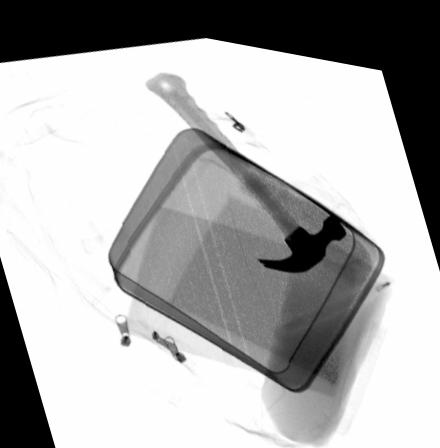Hammer: (141, 62, 347, 262)
